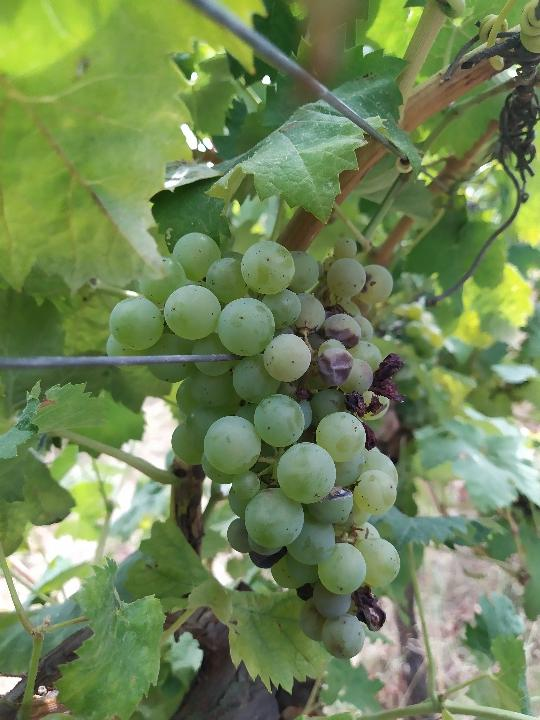grape: (102, 229, 409, 662)
